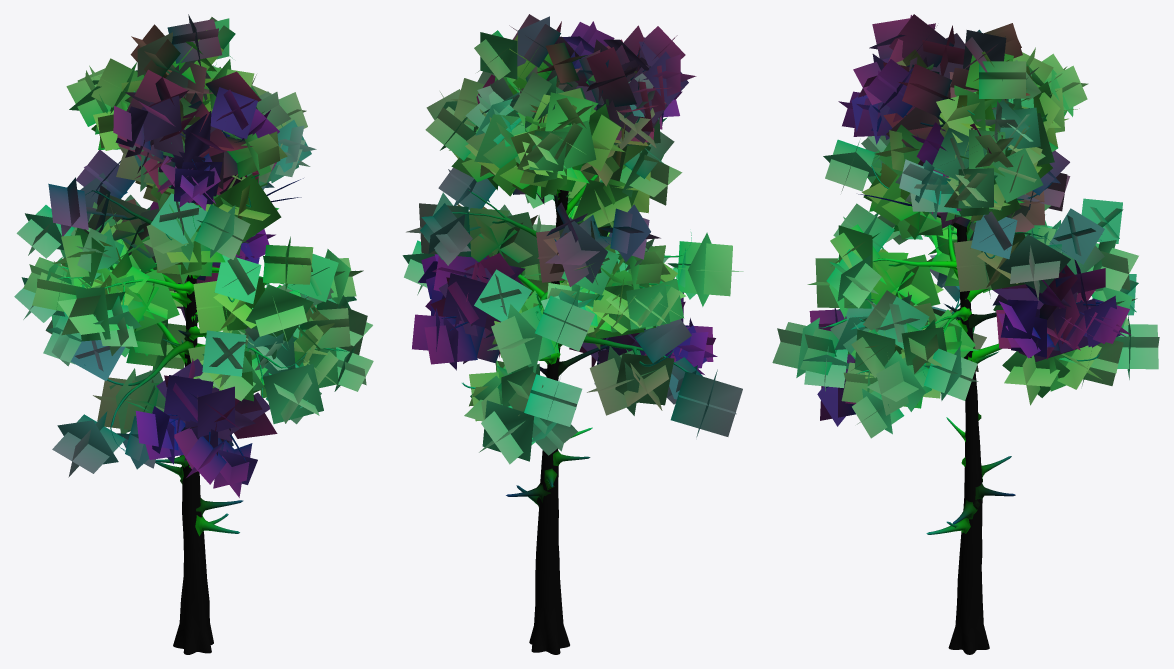
The model's file is sesxy.fbx.
3 views of the same model, side by side, from view 1: azimuth 30°, elevation 25°; view 2: azimuth 150°, elevation 25°; view 3: azimuth 270°, elevation 25° (orthographic). The views are drawn at different scales.
Visible parts, largest first — view 1: scotspineleaves_1, _0; view 2: scotspineleaves_1, _0; view 3: scotspineleaves_1, _0.
Boxes of the visible parts, left/top/right/bottom form: scotspineleaves_1: left=14, top=14, right=373, bottom=497; _0: left=57, top=64, right=348, bottom=654; scotspineleaves_1: left=402, top=14, right=743, bottom=464; _0: left=441, top=43, right=691, bottom=654; scotspineleaves_1: left=772, top=14, right=1159, bottom=438; _0: left=818, top=82, right=1102, bottom=654.
Bounding box in the file's own units: 960 × 1820 × 1037.
